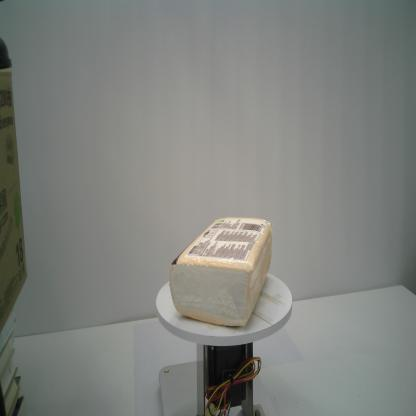Tissue: (169, 216, 273, 328)
